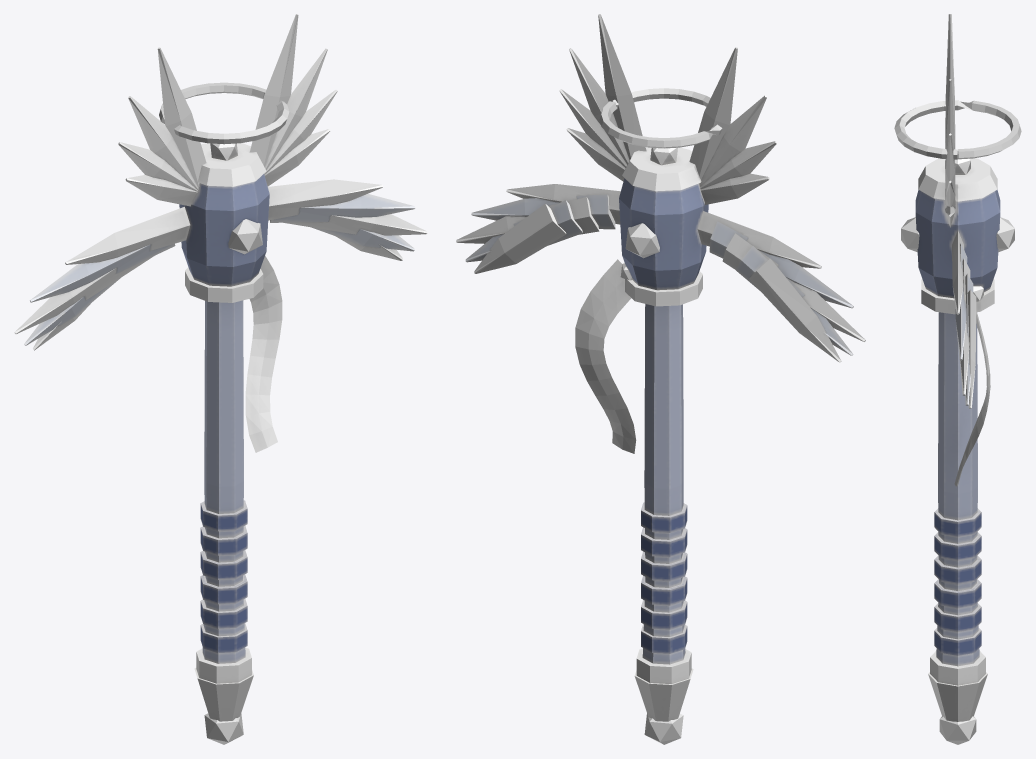
File: SilverWingPickaxe.glb
The picture shows the model from 3 angles, left to right: view 1: azimuth 30°, elevation 25°; view 2: azimuth 150°, elevation 25°; view 3: azimuth 270°, elevation 25°; orthographic projection. The views are drawn at different scales.
Visible parts, largest first — view 1: Body__Tex, Head__Accent, Head__Gem; view 2: Body__Tex, Head__Accent, Head__Gem; view 3: Body__Tex, Head__Accent, Head__Gem.
Part boxes in pixels (x1,y1,x2,y2): Body__Tex: [14, 48, 427, 721]; Head__Accent: [157, 14, 298, 187]; Head__Gem: [204, 219, 262, 744]; Body__Tex: [456, 48, 865, 721]; Head__Accent: [598, 14, 737, 179]; Head__Gem: [625, 223, 683, 744]; Body__Tex: [915, 133, 1000, 721]; Head__Accent: [894, 14, 1021, 196]; Head__Gem: [901, 217, 1014, 744].
Size of the model in its own units: 3.01 by 5.01 by 0.8266.
Materials: 1 (1 with a texture image).
